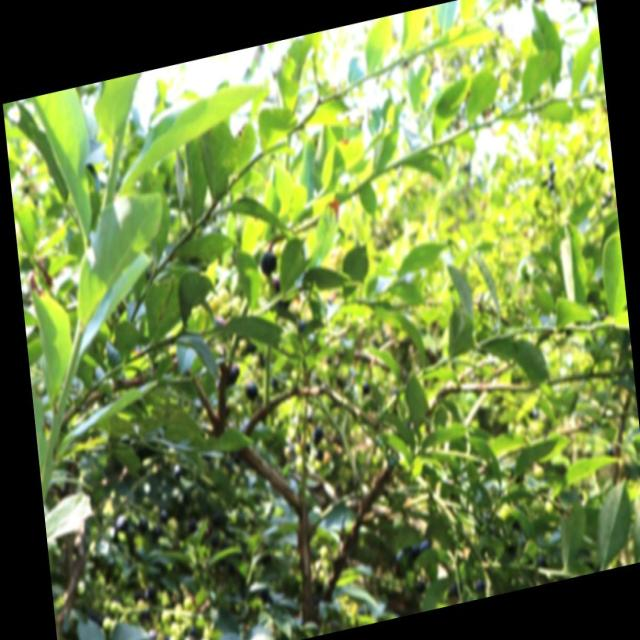blueberry: (254, 242, 282, 282), (398, 540, 430, 572), (219, 361, 243, 390), (468, 574, 490, 595), (241, 376, 259, 401), (113, 509, 130, 532), (129, 592, 147, 612), (298, 400, 312, 425), (144, 583, 158, 606), (310, 420, 324, 442), (157, 506, 170, 526), (137, 514, 148, 532), (180, 632, 196, 639), (160, 630, 172, 639), (197, 632, 212, 639)
